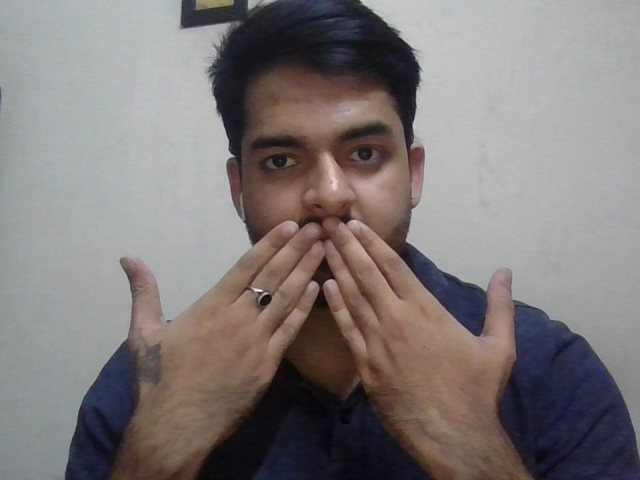thanks: (118, 216, 518, 440)
